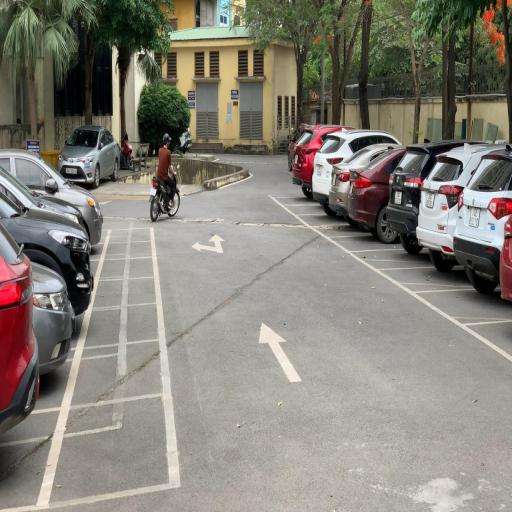bike: (150, 132, 180, 221)
numberplate: (150, 188, 156, 196)
with helmet: (162, 134, 172, 144)
